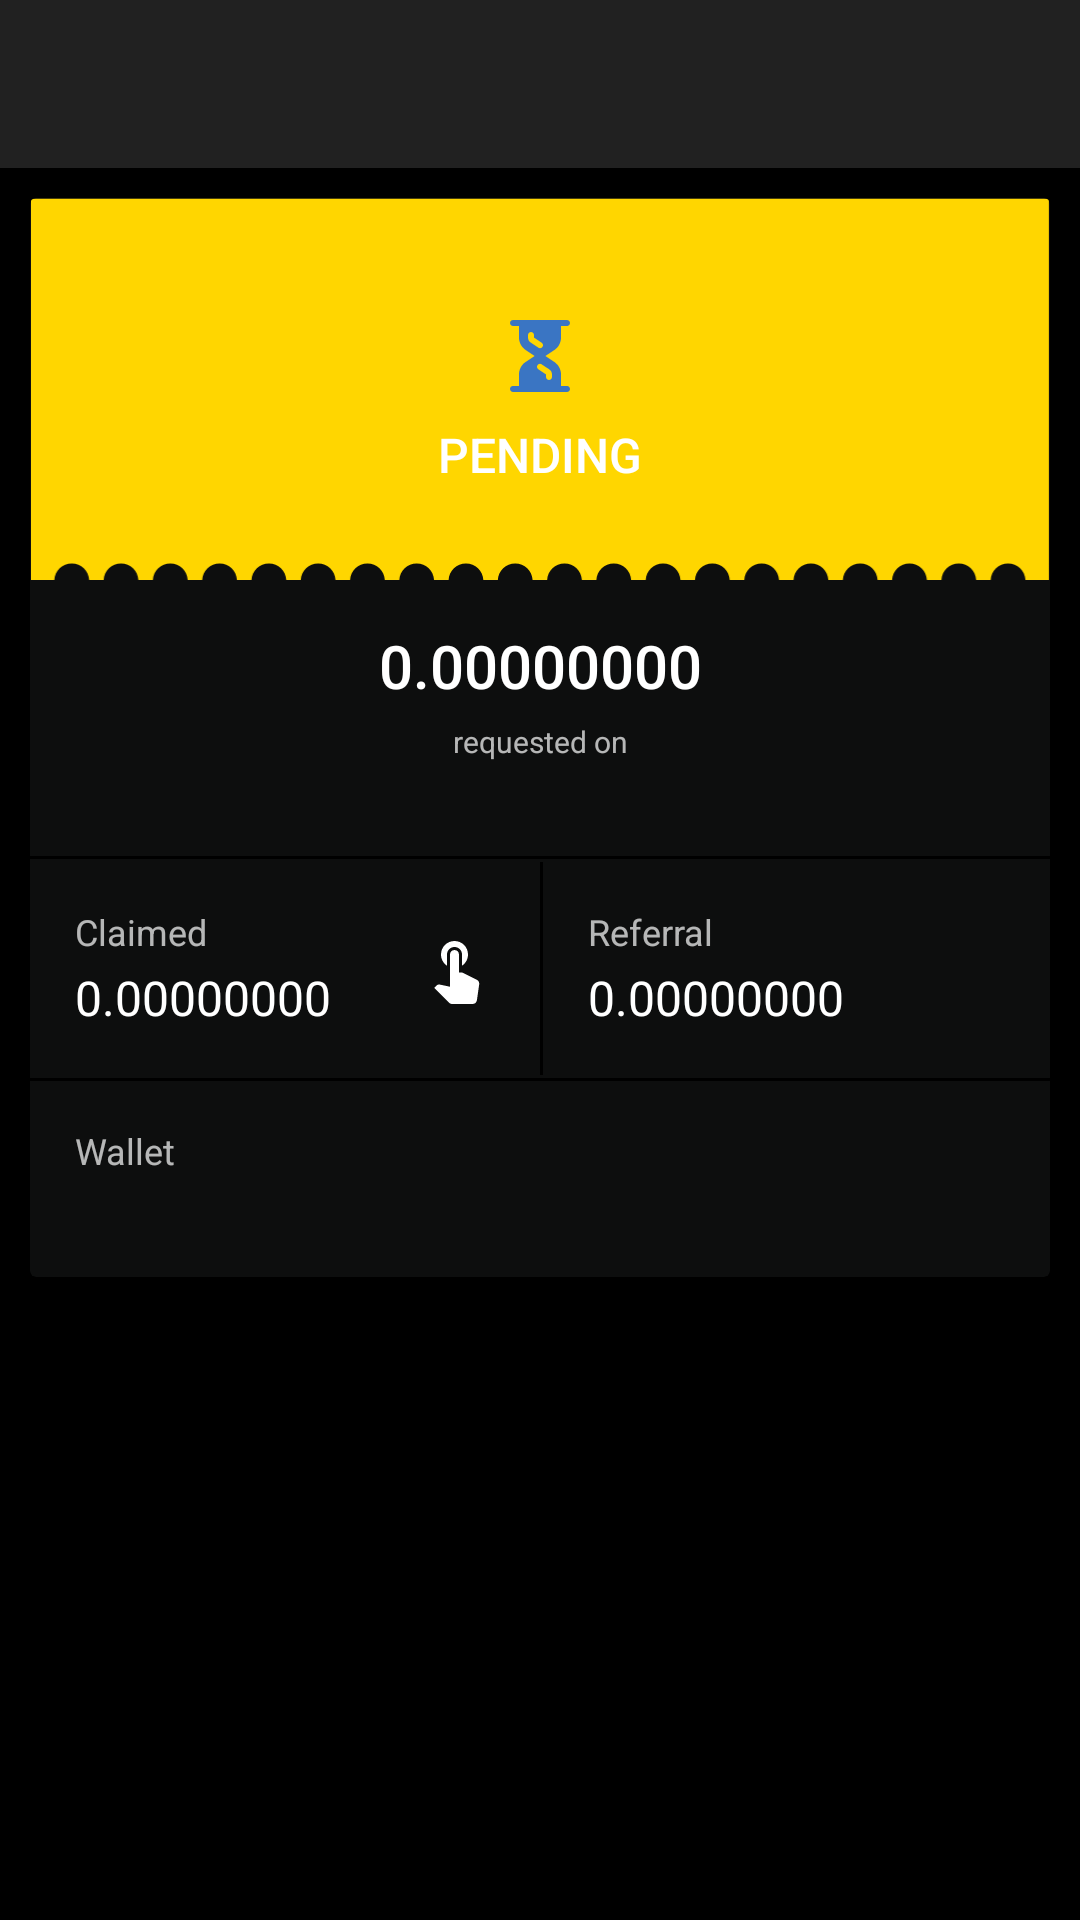

Where to tap for icons on this 1080 × 1920 app screen, as [x,y]:
touch app: [457,972]
